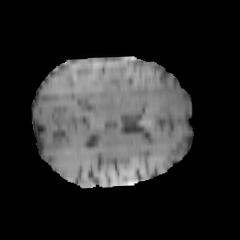glioma: (79, 60, 189, 110)
